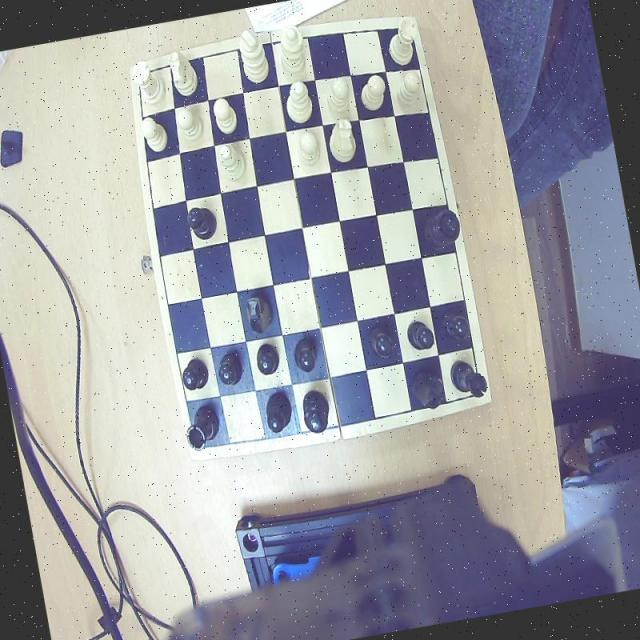chess-table-corners: (188, 431, 213, 459), (466, 382, 490, 407), (402, 16, 421, 46), (132, 62, 154, 86)
